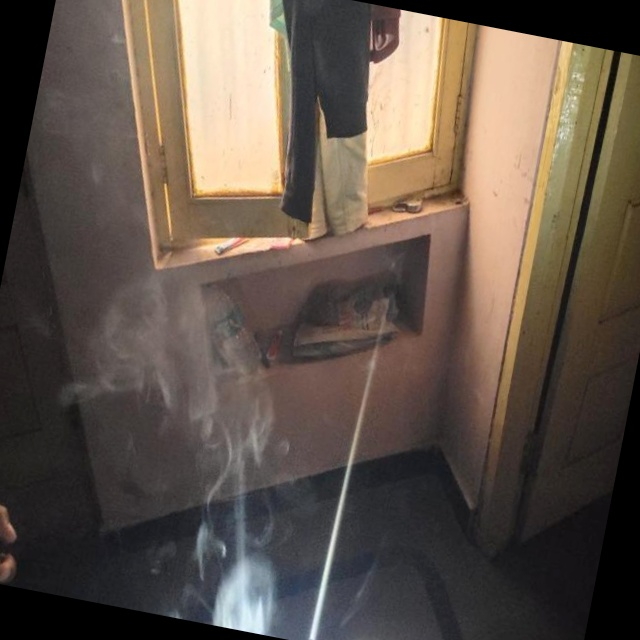smoke: (50, 254, 336, 636)
